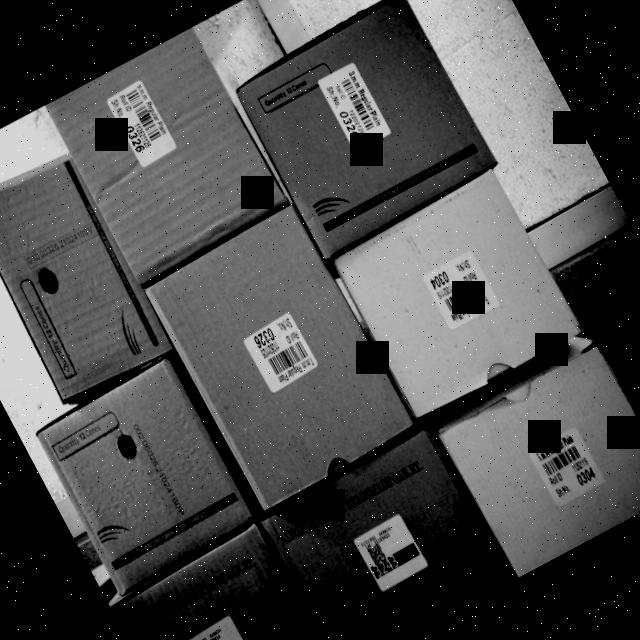box: (141, 200, 415, 512), (234, 0, 496, 257), (330, 168, 586, 424), (43, 26, 287, 285), (28, 354, 254, 594), (263, 429, 511, 640), (432, 333, 640, 578), (0, 146, 167, 406), (115, 526, 339, 640)
